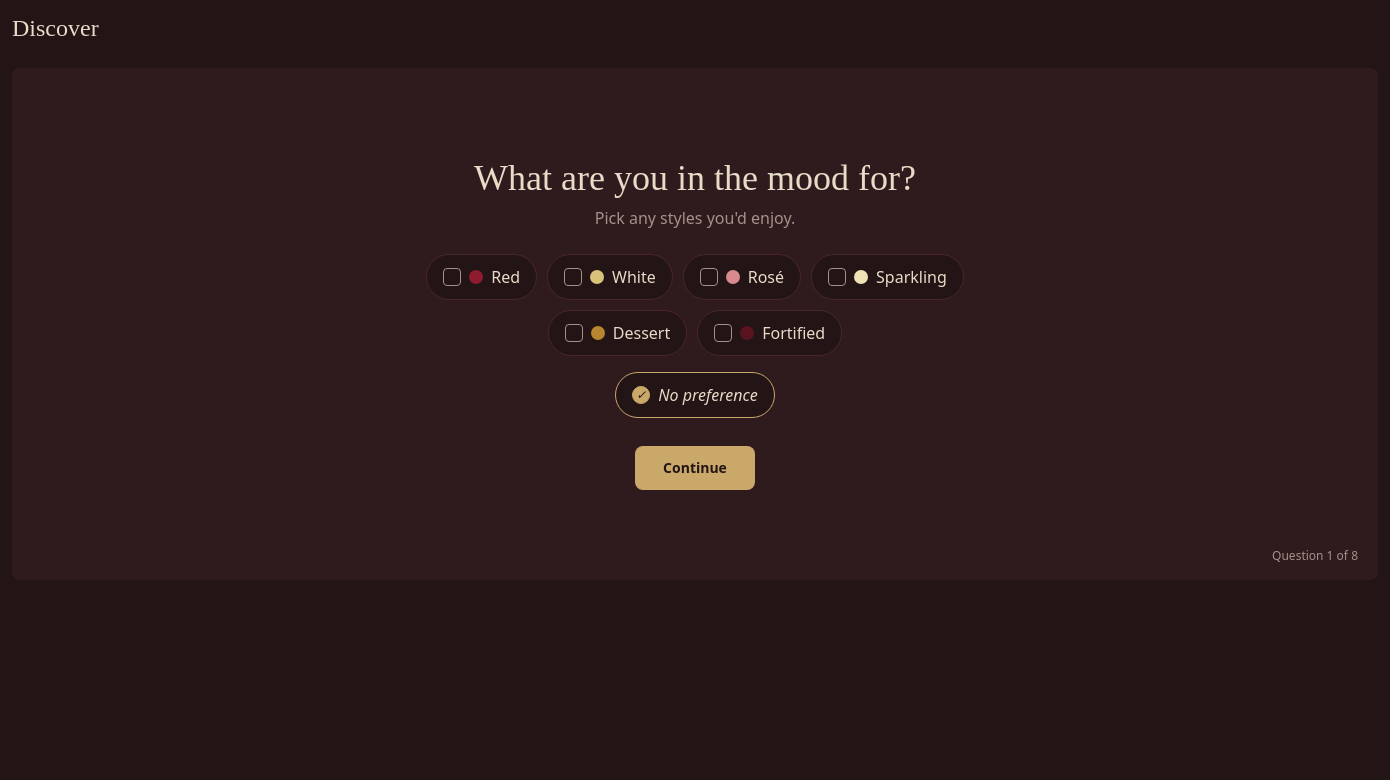
Test: DiscoverPage › jumps back to an earlier question from its answer chip
This screenshot has width=1390, height=780.
Click the button "Red".
click(482, 277)  # box [426, 254, 537, 300]
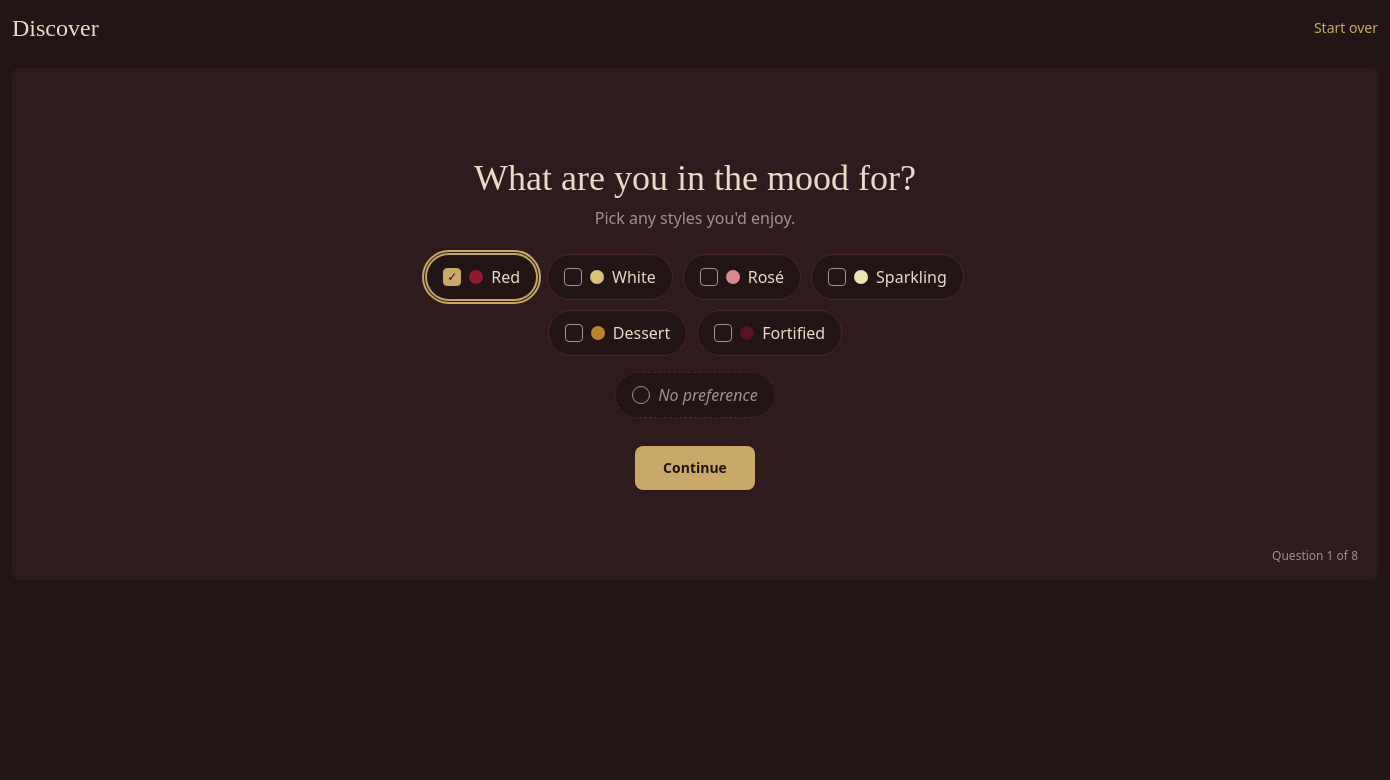
Click the button "Continue".
click(695, 468)  # box [635, 446, 755, 490]
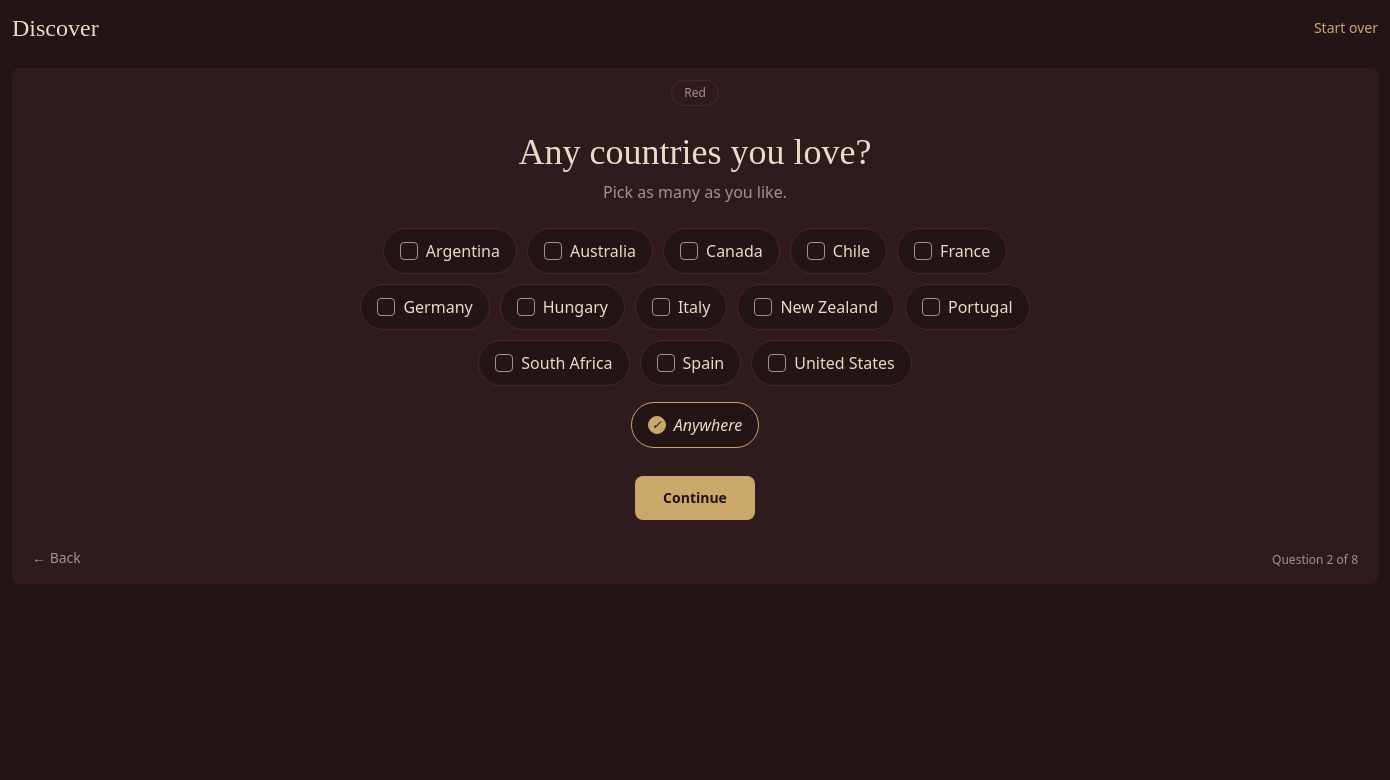
Click the button "Red".
click(695, 93)  # box [671, 80, 719, 106]
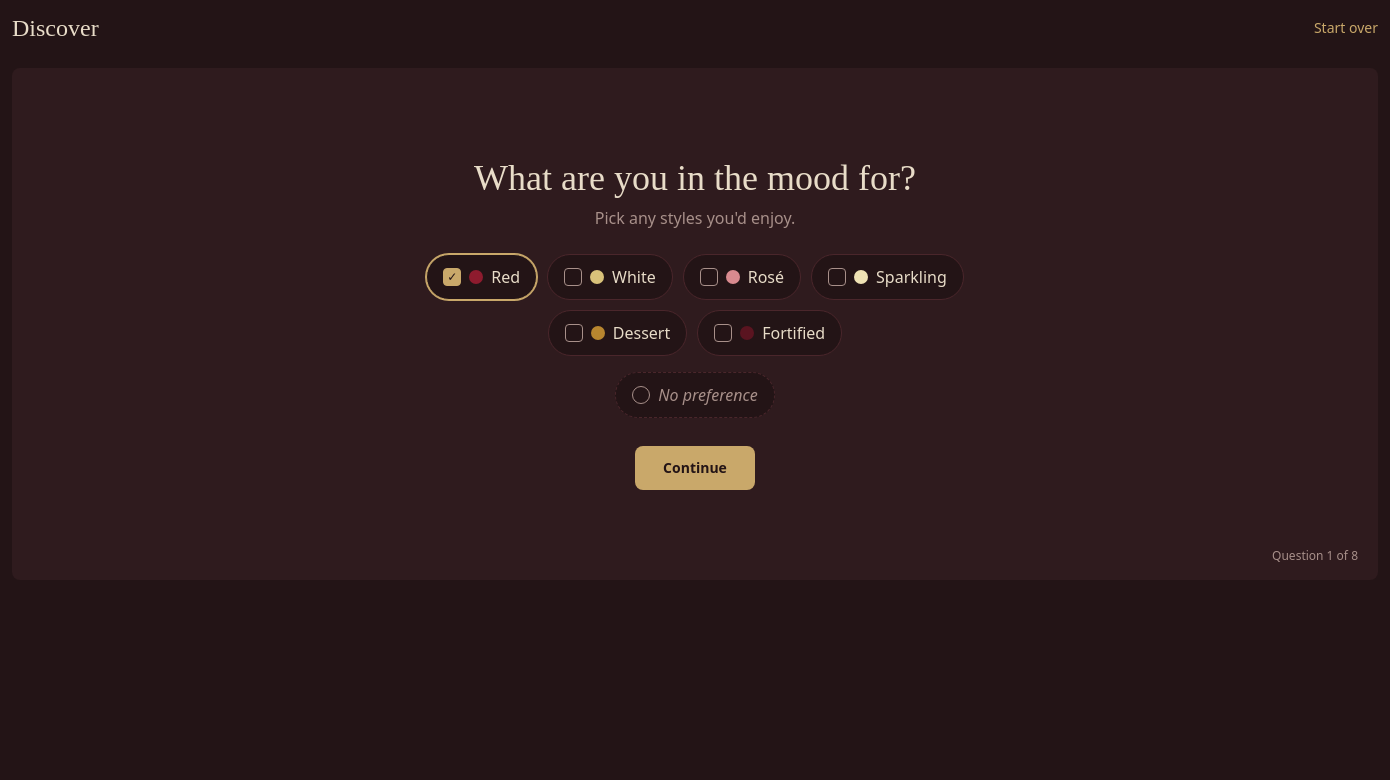
Expected: the heading "What are you in the mood for?" is shown, [474, 158, 916, 198]
